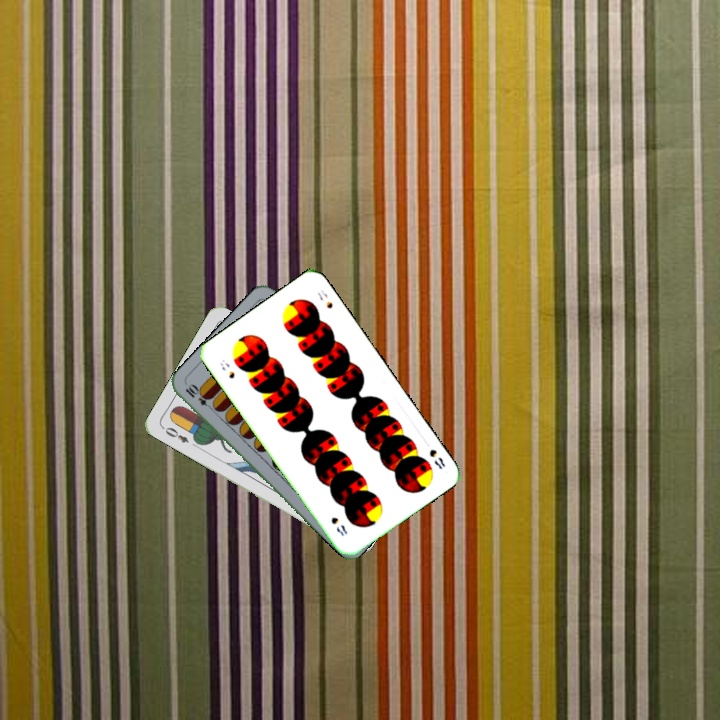E10: (181, 381, 217, 413)
EO: (158, 423, 192, 445)
S8: (425, 445, 448, 472), (216, 355, 237, 381)
